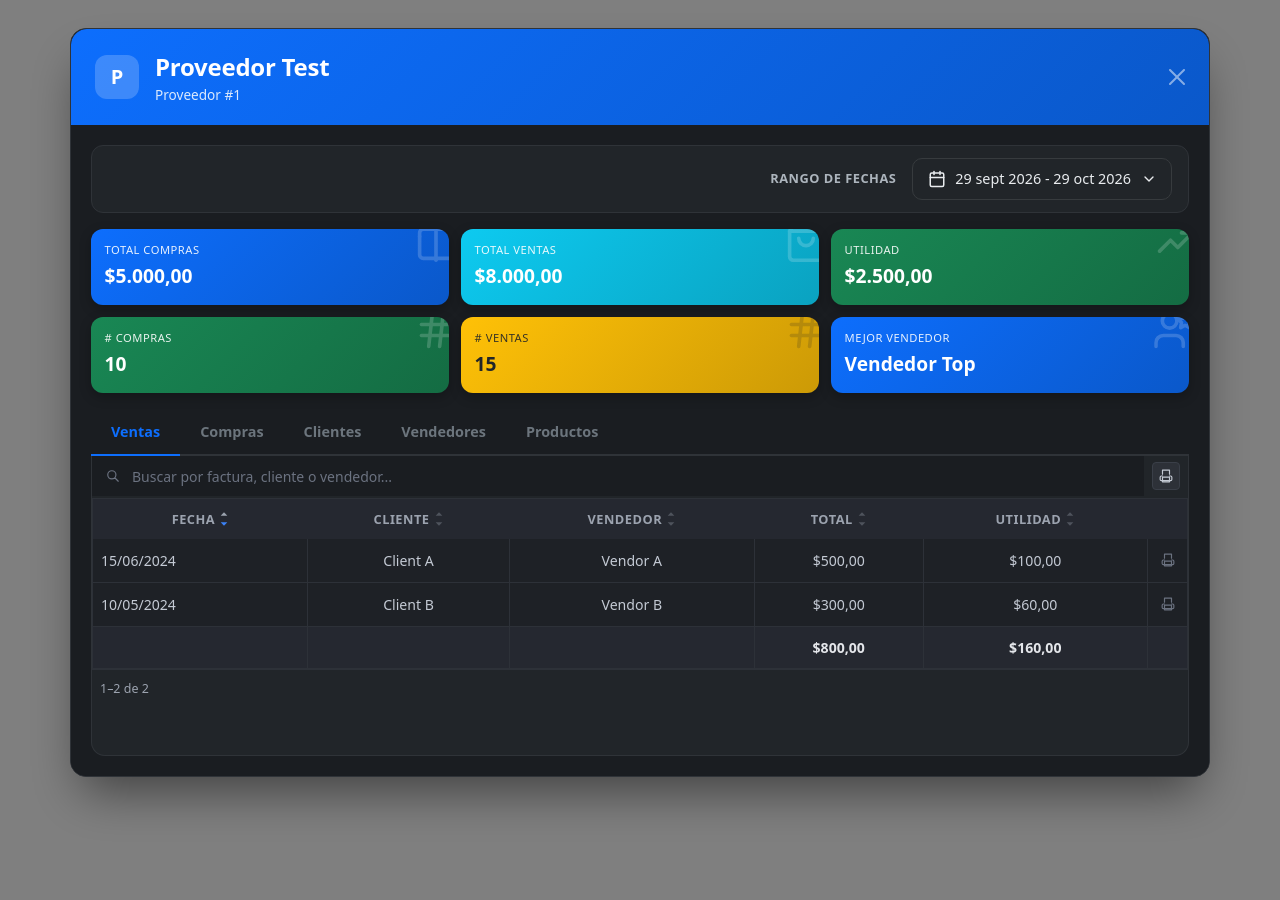
ProviderDashboardModal › renders purchases table with data
Check: the text "Total Compras" is shown, box [105, 242, 200, 257]
Note: Switch to Compras tab
Click the button "Compras": x=232, y=432 [180, 408, 284, 456]
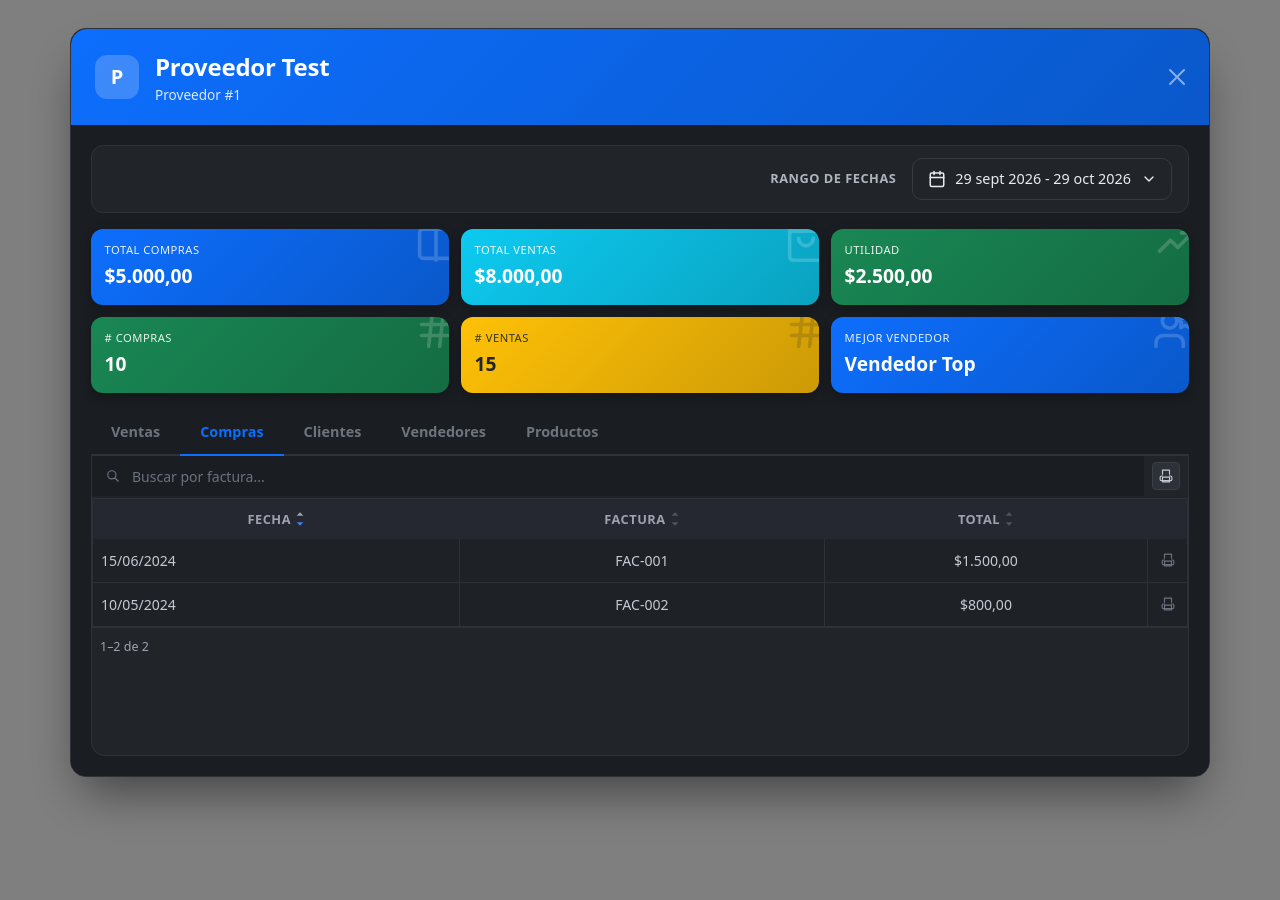
Check: the text "FAC-001" is shown, box [460, 539, 824, 583]
Check: the text "FAC-002" is shown, box [460, 583, 824, 627]
